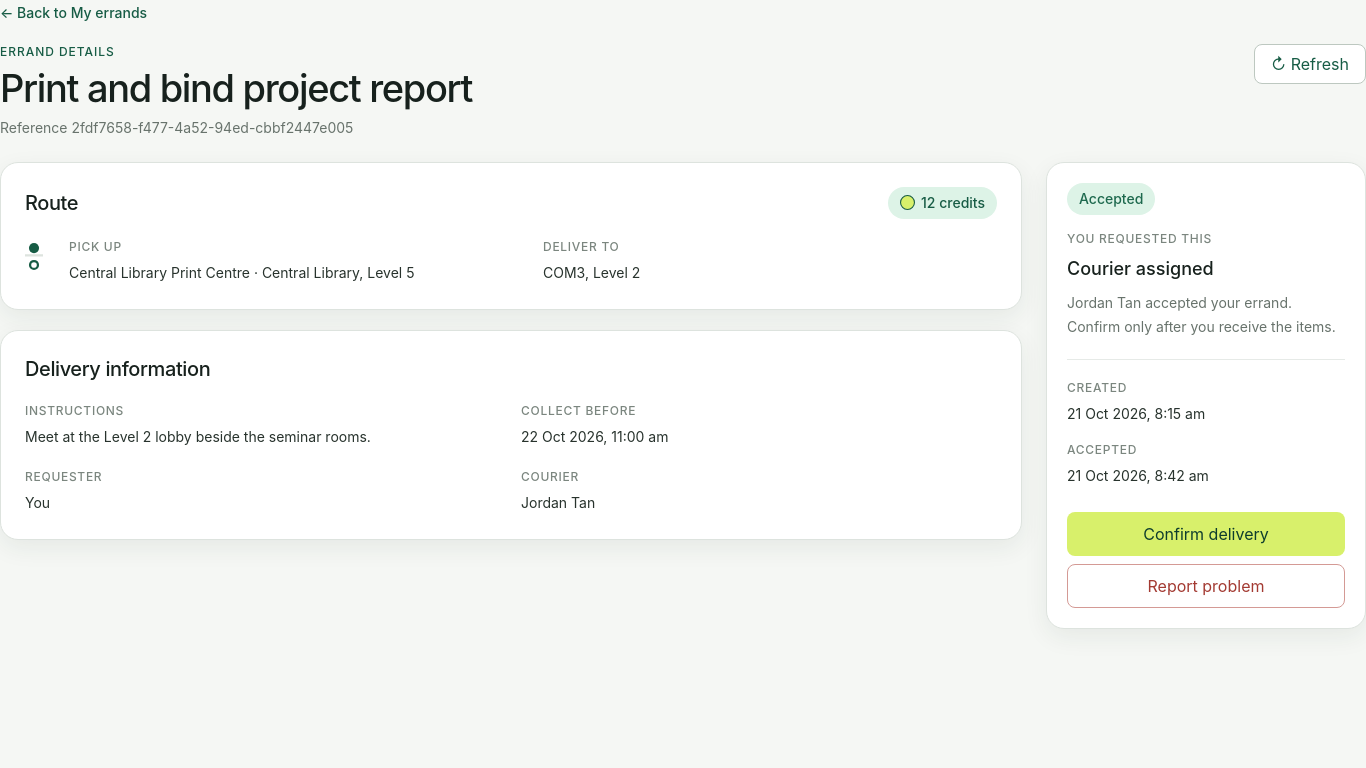
Test case: ErrandDetailsPage › keeps the dialog open when a mutation fails
Click the button "Confirm delivery". click: point(1206, 534)
box: [1067,512,1345,556]
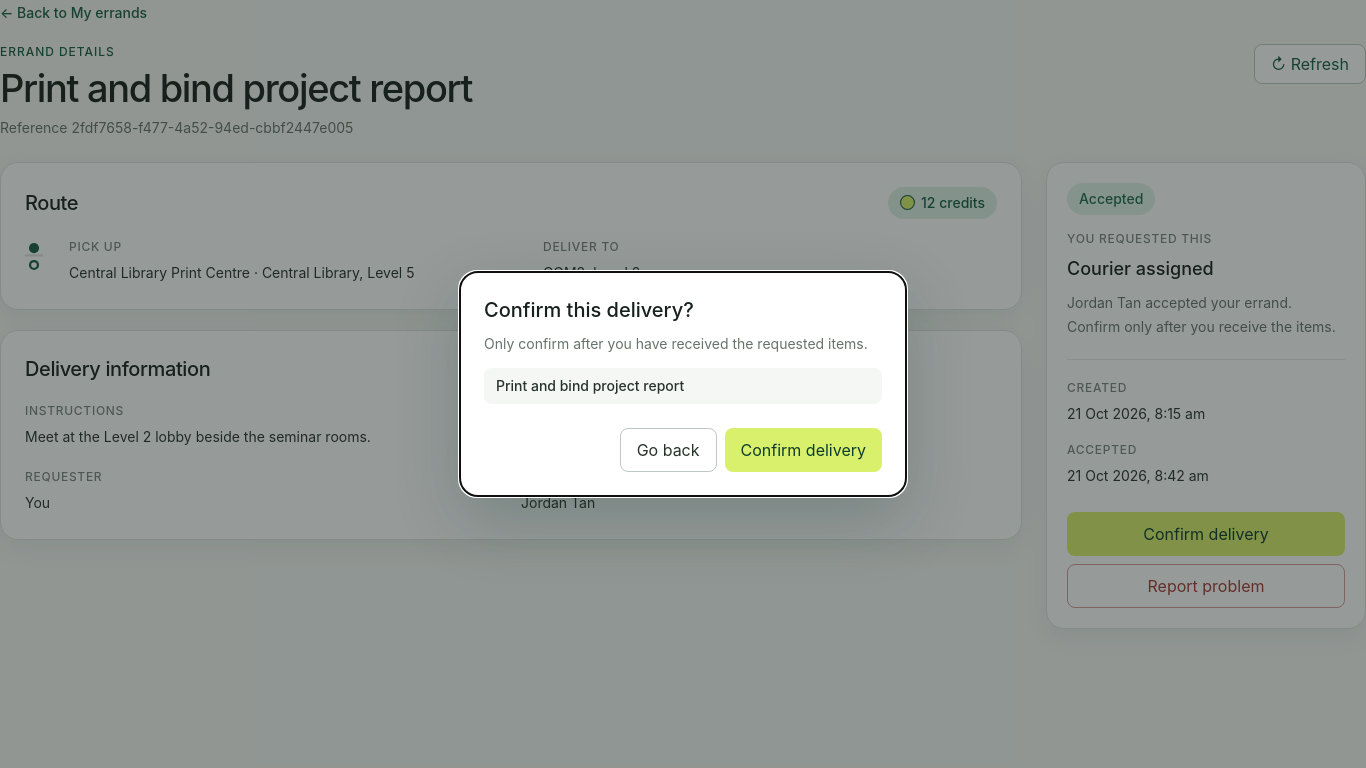
Click the button "Confirm delivery". click: point(803, 450)
box: [724,428,882,472]
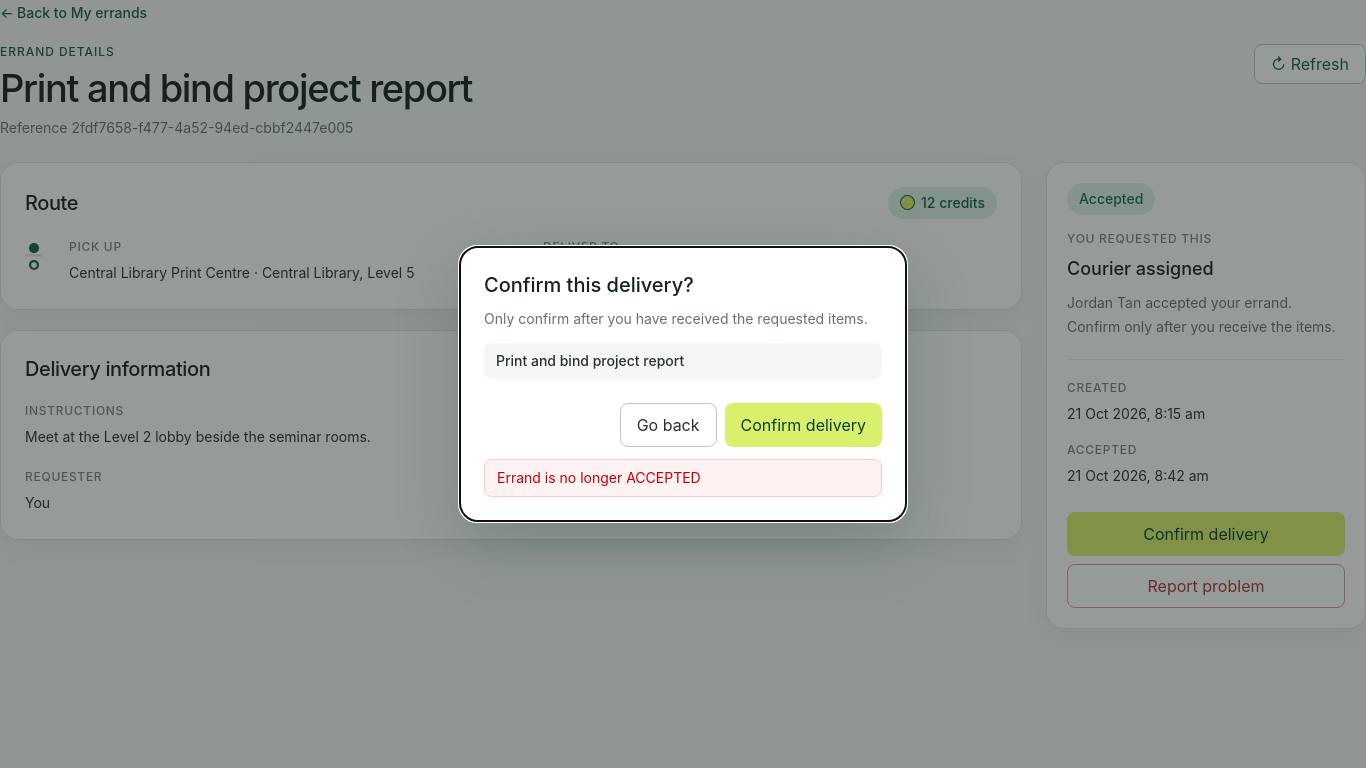
Expected: the dialog "Confirm this delivery?" is shown, [459,246,907,522]
Expected: the message reads "Errand is no longer ACCEPTED", [497,469,701,486]
